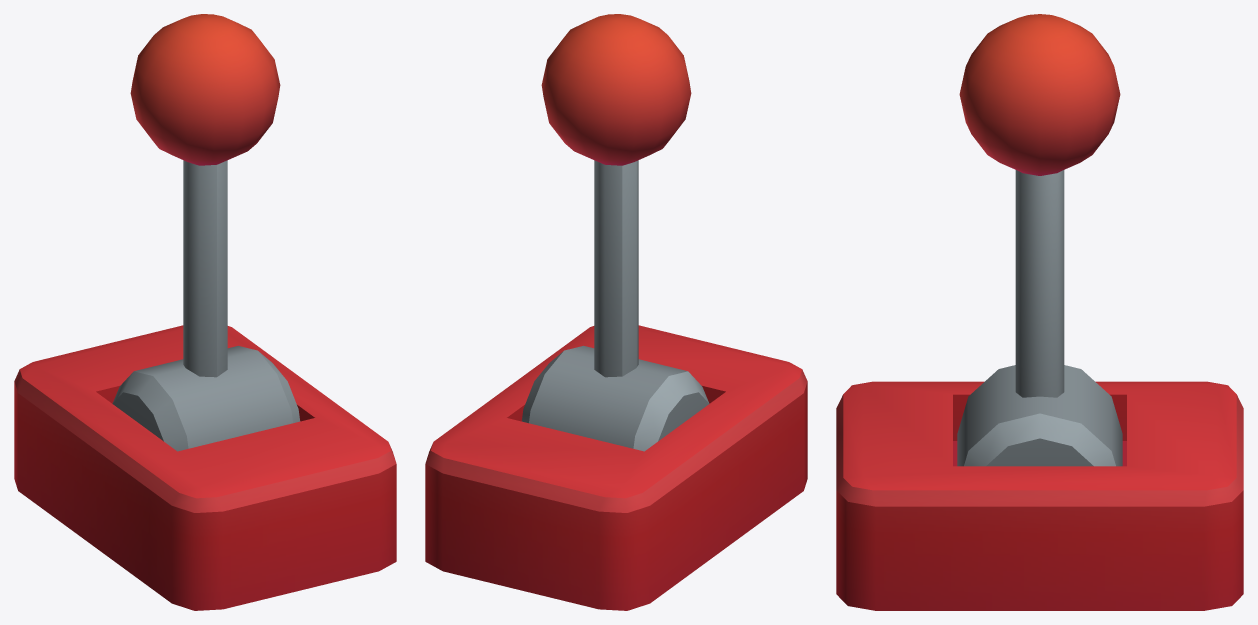
File: lever_floor_base_red.glb
The picture shows the model from 3 angles, left to right: view 1: azimuth 30°, elevation 25°; view 2: azimuth 150°, elevation 25°; view 3: azimuth 270°, elevation 25°; orthographic projection. The views are drawn at different scales.
Visible parts, largest first — view 1: lever_floor_base_red, lever_floor_red; view 2: lever_floor_base_red, lever_floor_red; view 3: lever_floor_base_red, lever_floor_red.
Part boxes in pixels (x1,y1,x2,y2): lever_floor_base_red: (14,325,396,610); lever_floor_red: (112,14,300,451); lever_floor_base_red: (425,325,807,610); lever_floor_red: (521,14,709,451); lever_floor_base_red: (836,381,1243,610); lever_floor_red: (957,14,1122,466).
Size of the model in its own units: 0.8 by 1.73 by 1.2.
1 material, 1 textured.
